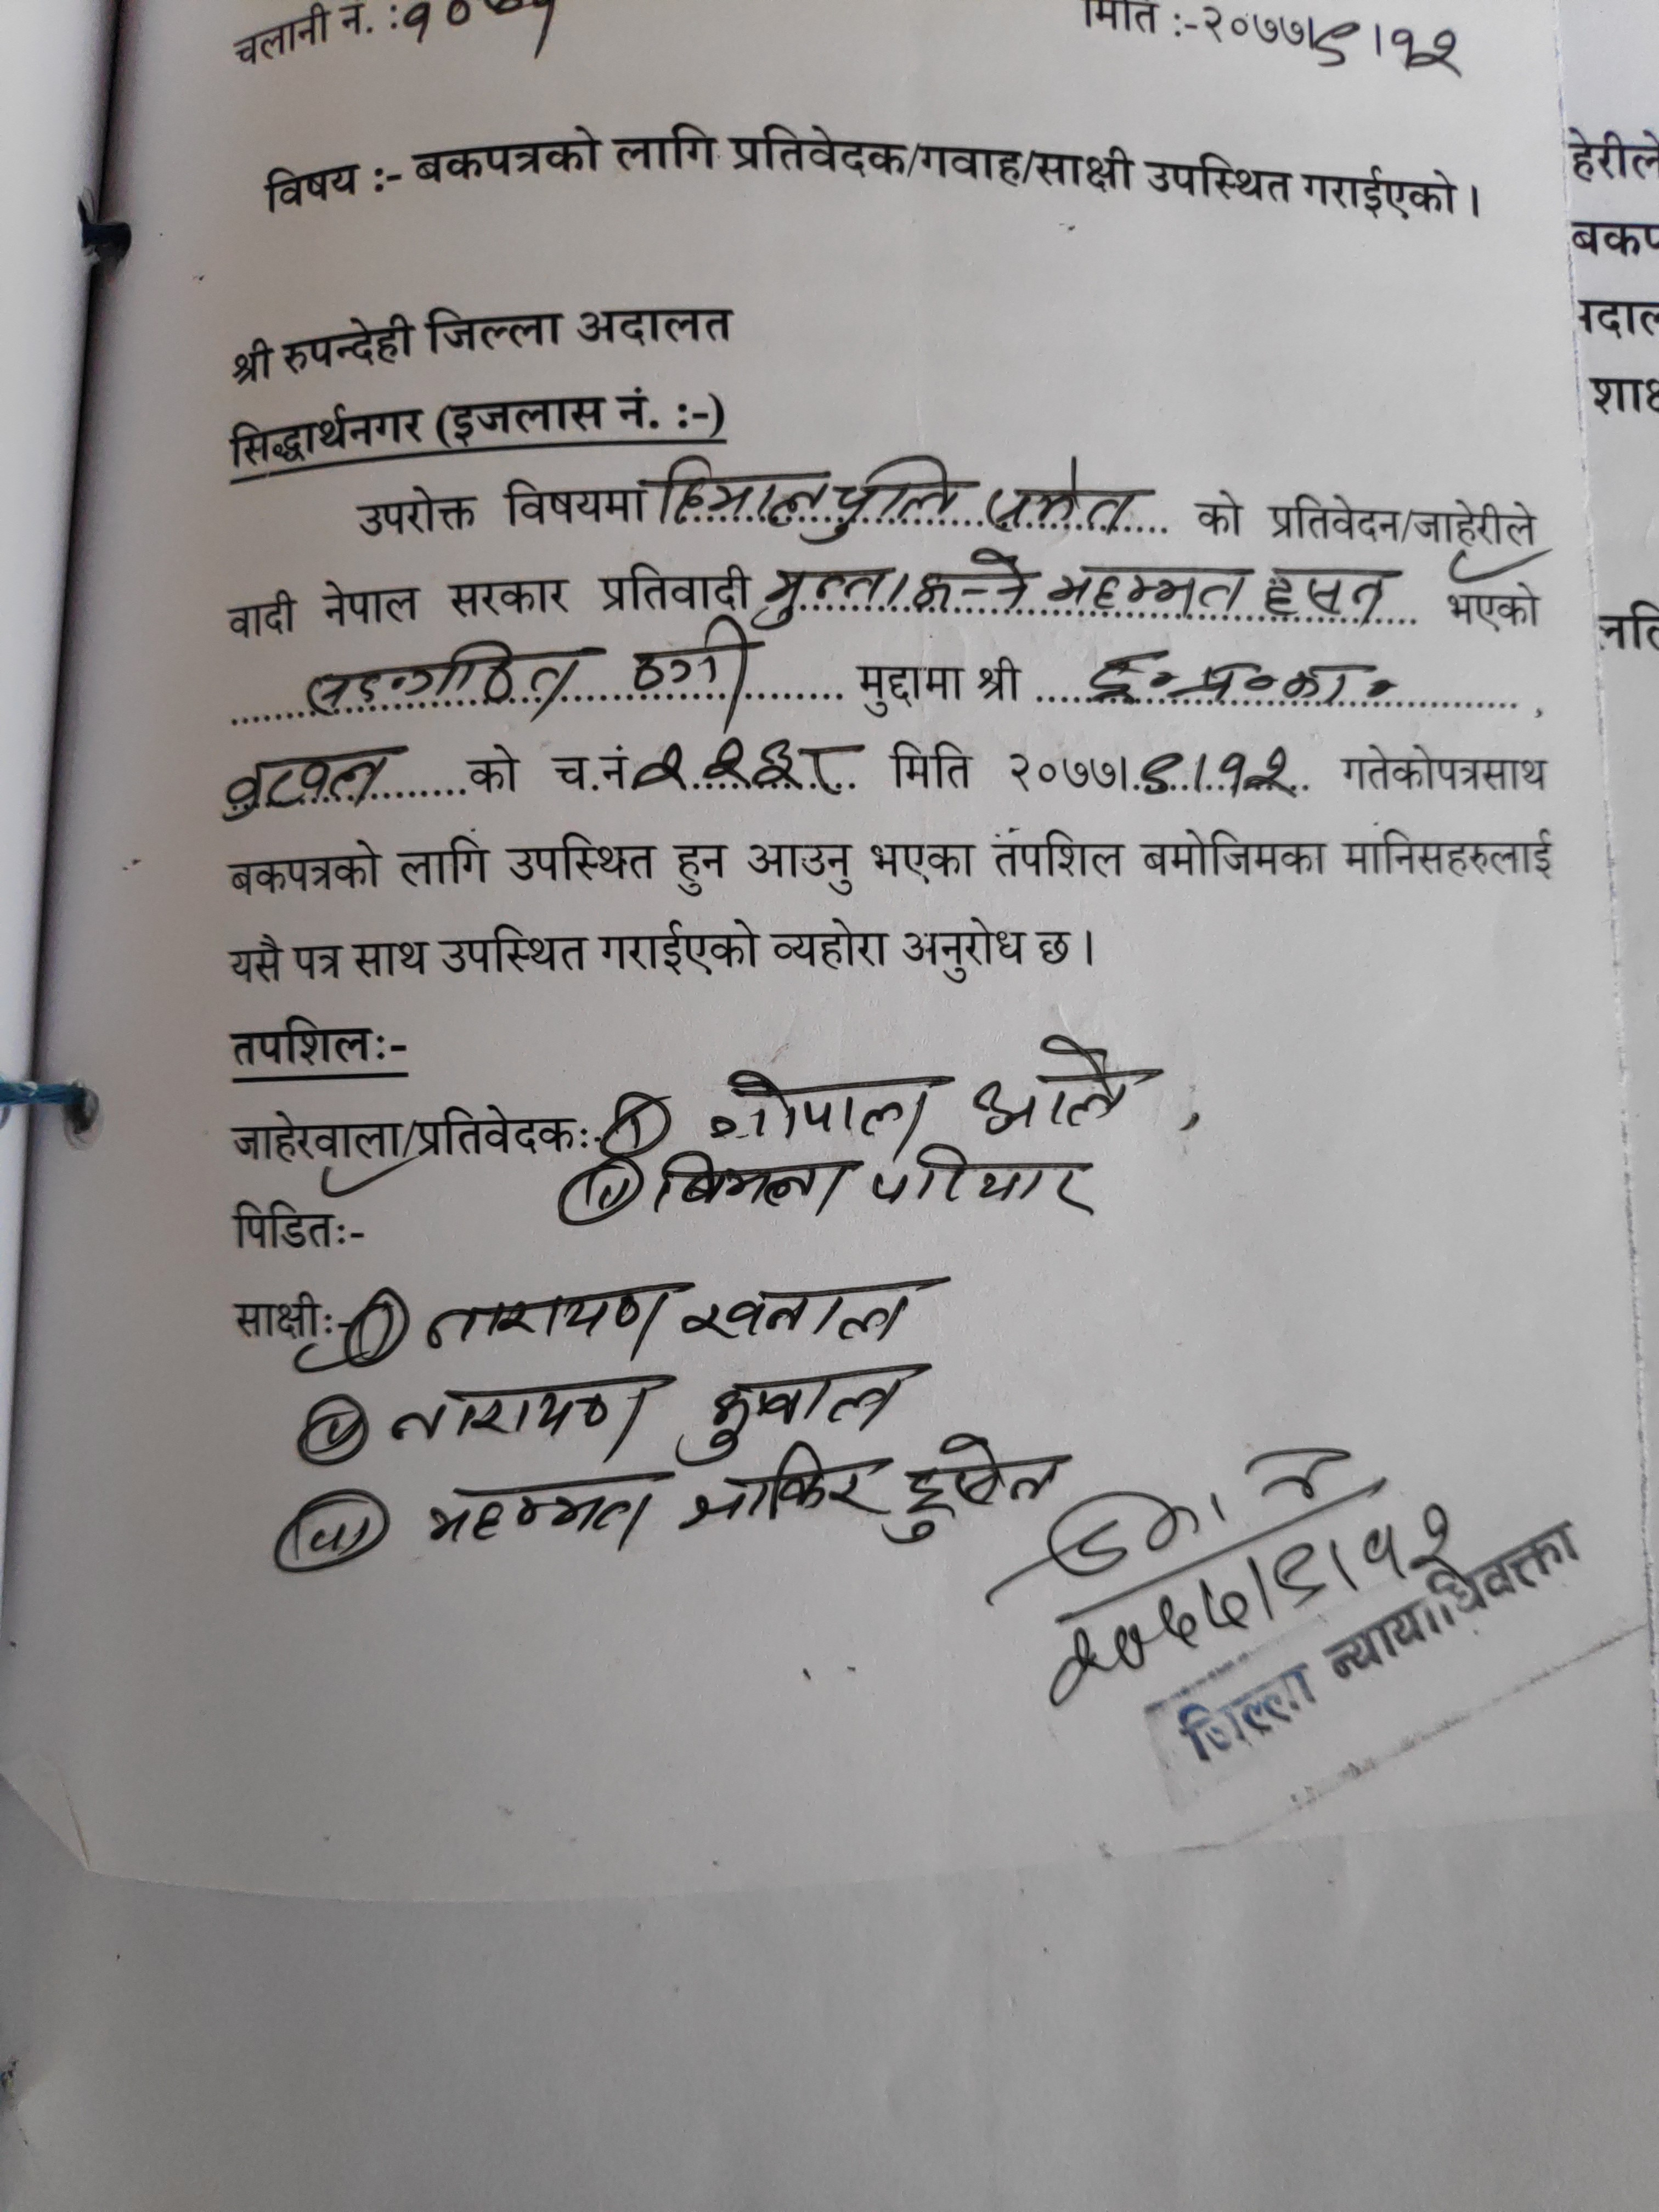text: (301, 632, 587, 716), (387, 1376, 666, 1453), (422, 1275, 674, 1359), (892, 1430, 1065, 1550), (695, 1062, 931, 1150), (1084, 646, 1363, 718), (415, 1470, 659, 1550), (864, 1139, 1103, 1219), (962, 1031, 1134, 1139), (634, 730, 870, 803), (676, 1278, 915, 1348), (687, 1454, 870, 1543), (680, 1359, 901, 1430), (218, 742, 392, 826), (647, 1150, 852, 1219), (983, 451, 1143, 540), (645, 453, 828, 529), (627, 608, 756, 716), (1042, 561, 1253, 622), (830, 451, 971, 531), (749, 561, 908, 629), (1133, 740, 1302, 801), (908, 543, 1033, 613), (1262, 561, 1405, 622)
